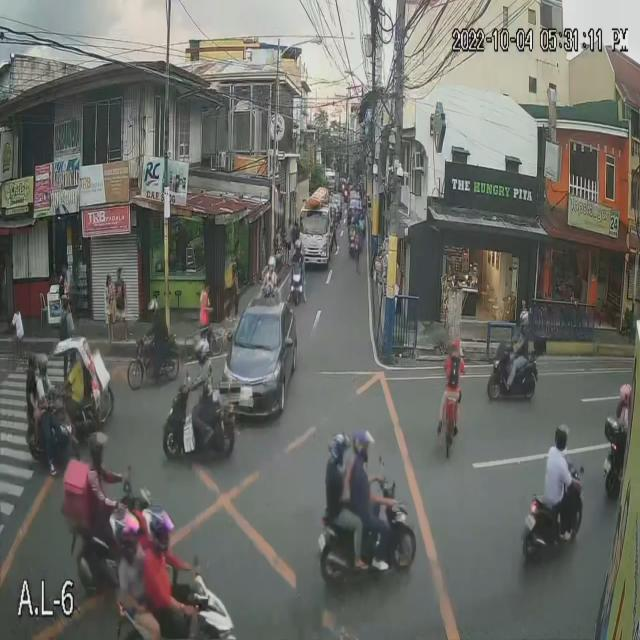full: (147, 503, 173, 552), (115, 508, 140, 555), (328, 430, 352, 471), (353, 427, 374, 464), (193, 337, 210, 365), (146, 296, 159, 318), (39, 354, 48, 376), (518, 311, 528, 327)
half: (88, 430, 107, 469), (618, 379, 632, 405), (267, 256, 276, 274)
